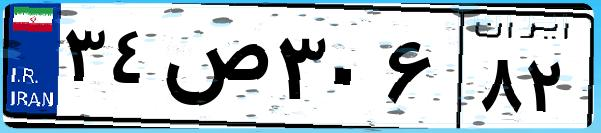0: (330, 28, 385, 110)
2: (525, 38, 570, 115)
3: (270, 28, 330, 110), (57, 26, 110, 100)
4: (110, 28, 158, 98)
6: (385, 28, 445, 110)
8: (475, 38, 525, 113)
ص: (158, 20, 270, 120)
